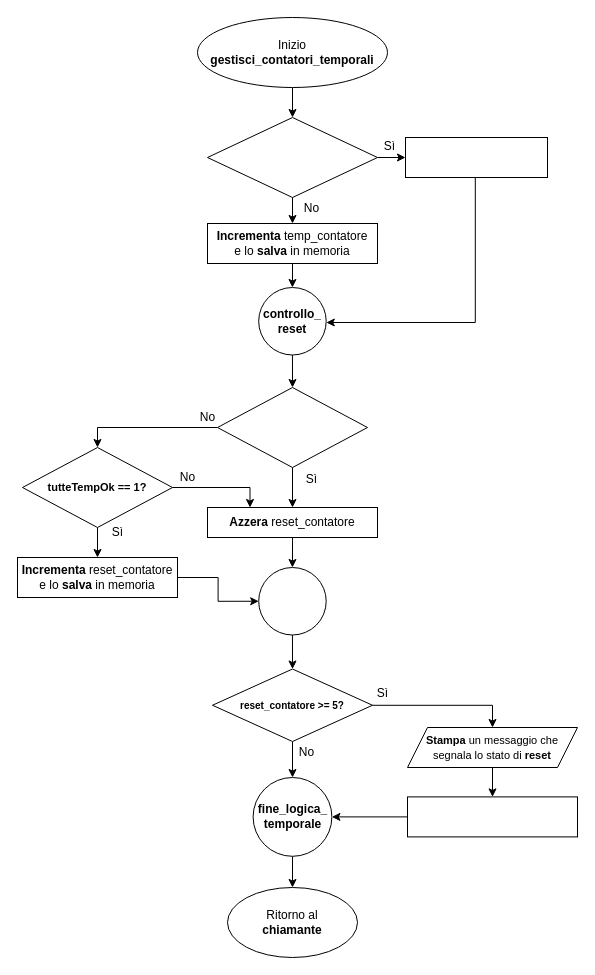
Some shapes in this 595 by 975 pixel diagram are drawn without their labels. Here are the shapes that lost their labels. From the top down, the centre of each, then its label:
(x=292, y=157): (Numero sensori con T > 60°C) < 2?
(x=476, y=157): Azzera temp_contatore
(x=292, y=427): fumoPresente == 1?
(x=292, y=600): fase_ reset
(x=492, y=816): RESET: azzera COMMAND, temp_contatore e reset_contatore
